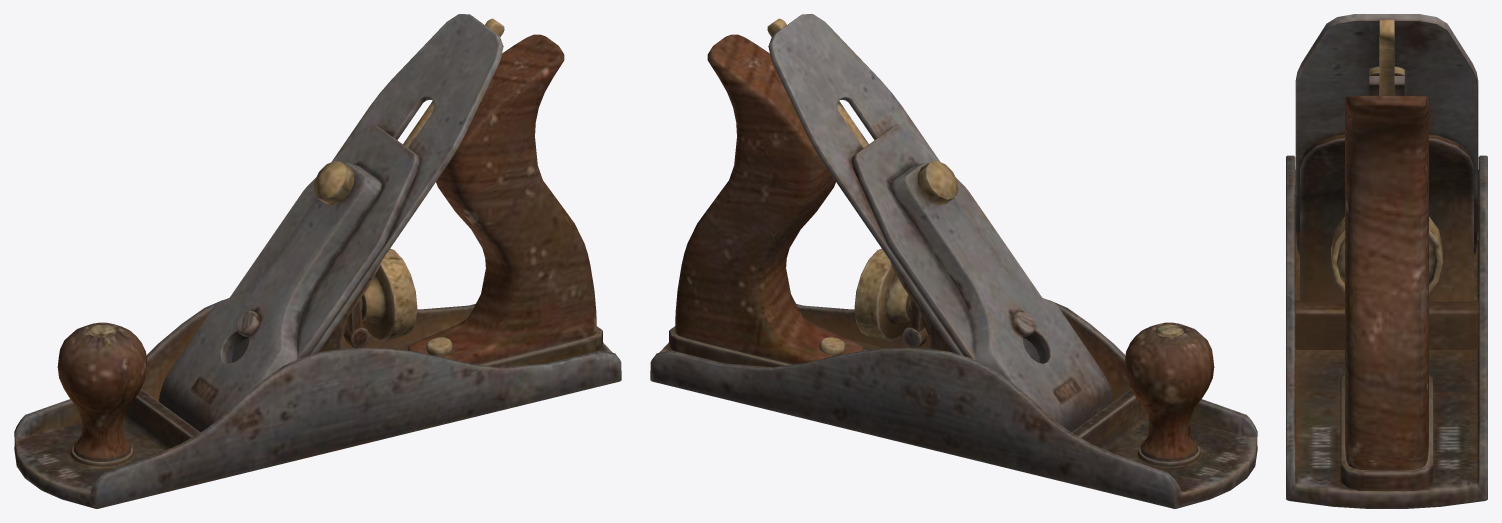
3 views of the same model, side by side, from view 1: azimuth 30°, elevation 25°; view 2: azimuth 150°, elevation 25°; view 3: azimuth 270°, elevation 25° (orthographic). The views are drawn at different scales.
Parts seen in each view (by area): view 1: hand_plane_no4; view 2: hand_plane_no4; view 3: hand_plane_no4.
Part boxes in pixels (x1,y1,x2,y2): hand_plane_no4: [14, 14, 621, 508]; hand_plane_no4: [650, 14, 1257, 508]; hand_plane_no4: [1286, 14, 1487, 508].
Bounding box in the file's own units: 0.3308 × 0.1978 × 0.0843.
1 material, 1 textured.
